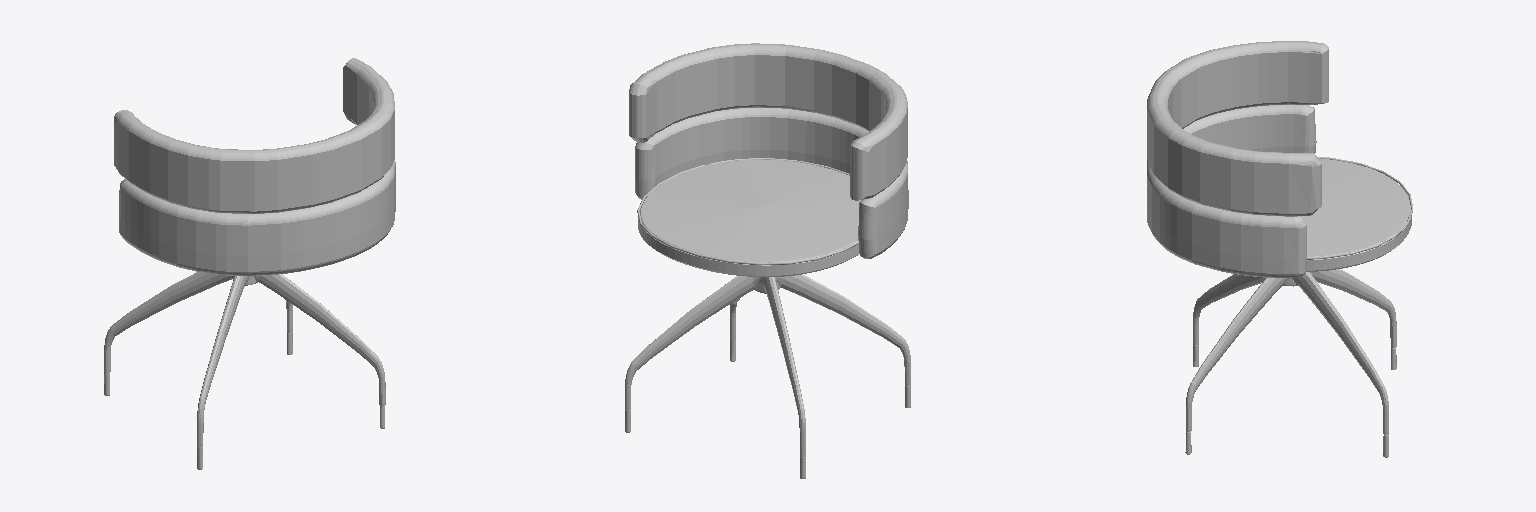
Rendered from chair.obj.
3 renders of one model, left to right at view 1: azimuth 30°, elevation 25°; view 2: azimuth 150°, elevation 25°; view 3: azimuth 270°, elevation 25°, orthographic.
Parts seen in each view (by area): view 1: oben_sandalye2:ChamferBox003 chair, chair oben_sandalye2:ChamferBox002, chair oben_sandalye2:obj_04; view 2: oben_sandalye2:ChamferBox003 chair, chair oben_sandalye2:Spindle001, chair oben_sandalye2:ChamferBox002, chair oben_sandalye2:obj_04, chair oben_sandalye2:Loft001; view 3: oben_sandalye2:ChamferBox003 chair, chair oben_sandalye2:ChamferBox002, chair oben_sandalye2:Spindle001, chair oben_sandalye2:obj_04, chair oben_sandalye2:Loft001.
Part boxes in pixels (bbox=[...]): oben_sandalye2:ChamferBox003 chair: bbox=[114, 58, 394, 213]; chair oben_sandalye2:ChamferBox002: bbox=[119, 160, 395, 275]; chair oben_sandalye2:obj_04: bbox=[104, 272, 385, 469]; oben_sandalye2:ChamferBox003 chair: bbox=[629, 43, 907, 200]; chair oben_sandalye2:Spindle001: bbox=[638, 159, 860, 276]; chair oben_sandalye2:ChamferBox002: bbox=[635, 108, 908, 258]; chair oben_sandalye2:obj_04: bbox=[625, 274, 910, 478]; chair oben_sandalye2:Loft001: bbox=[637, 158, 858, 264]; oben_sandalye2:ChamferBox003 chair: bbox=[1147, 41, 1328, 216]; chair oben_sandalye2:ChamferBox002: bbox=[1147, 105, 1316, 278]; chair oben_sandalye2:Spindle001: bbox=[1302, 158, 1411, 271]; chair oben_sandalye2:obj_04: bbox=[1185, 269, 1396, 457]; chair oben_sandalye2:Loft001: bbox=[1307, 157, 1412, 259].
Size of the model in its own units: 3.3 by 4.04 by 3.09.